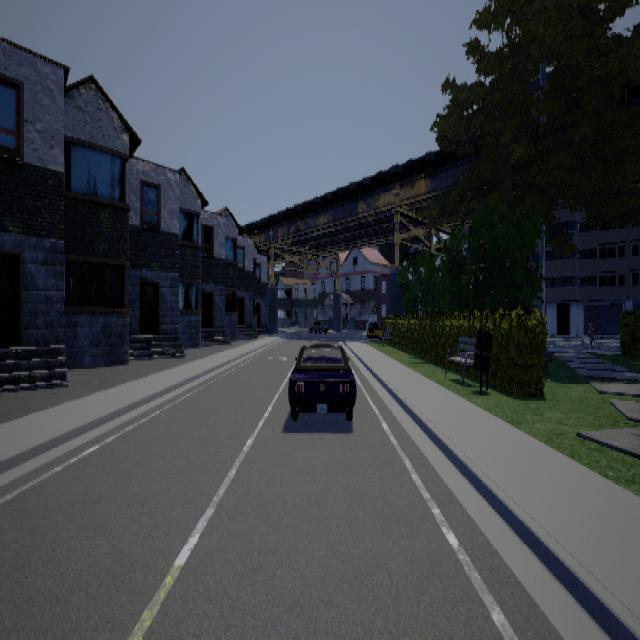vehicle: (287, 342, 356, 419)
